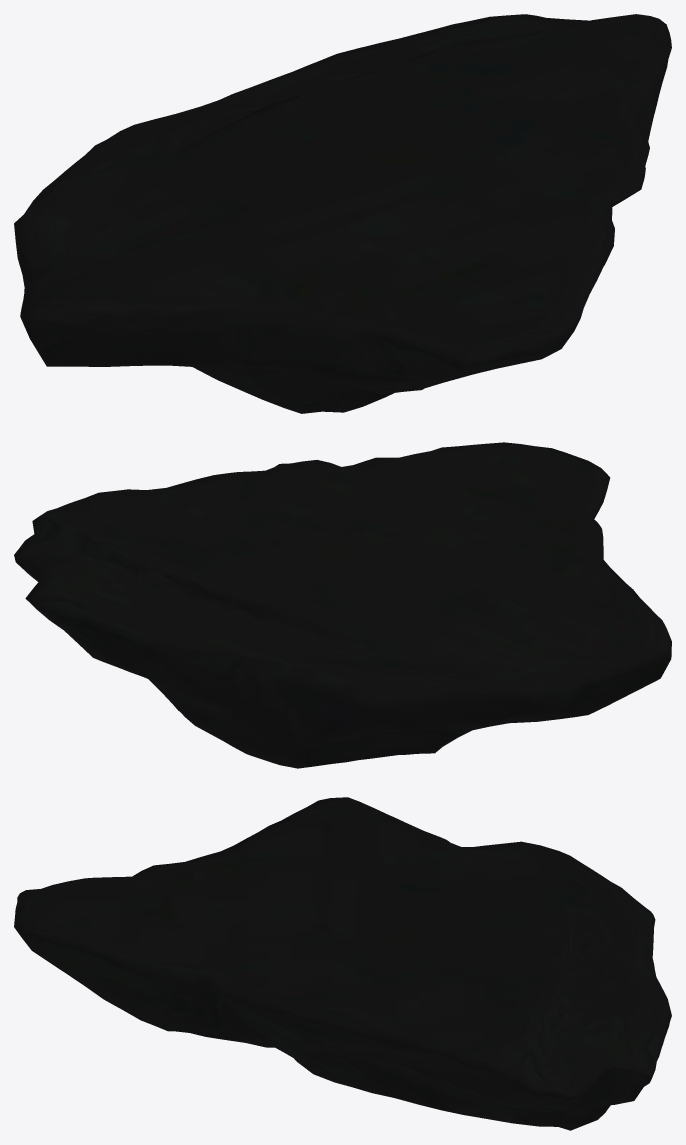
The picture shows the model from 3 angles, top to bottom: view 1: azimuth 30°, elevation 25°; view 2: azimuth 150°, elevation 25°; view 3: azimuth 270°, elevation 25°; orthographic projection. The views are drawn at different scales.
Parts seen in each view (by area): view 1: SM_GF_Clifftop_01_LOD0; view 2: SM_GF_Clifftop_01_LOD0; view 3: SM_GF_Clifftop_01_LOD0.
Boxes of the visible parts, bbox=[...] form: SM_GF_Clifftop_01_LOD0: bbox=[14, 14, 671, 413]; SM_GF_Clifftop_01_LOD0: bbox=[14, 442, 671, 768]; SM_GF_Clifftop_01_LOD0: bbox=[14, 797, 671, 1130].
Bounding box in the file's own units: 8.9 × 2.41 × 7.67.
Materials: 1 (1 with a texture image).
